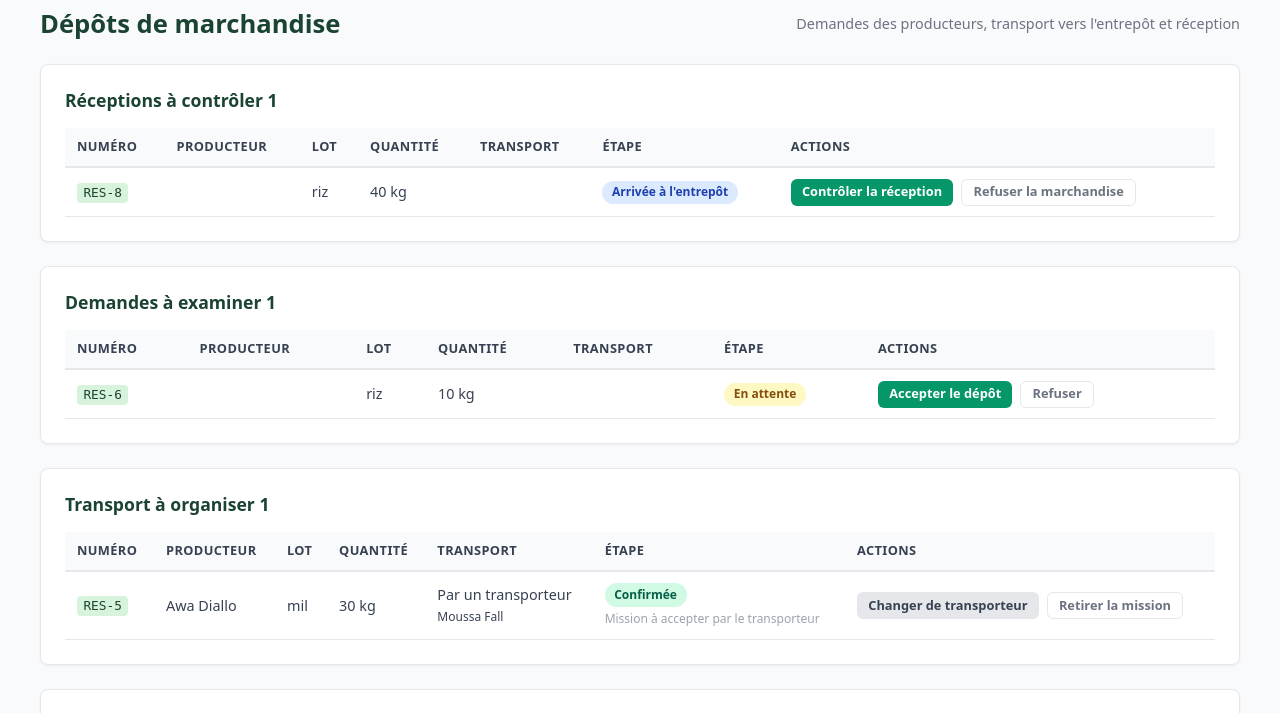
EntrepotReservationsComponent — corrections du gestionnaire › réassignation : le transporteur actuel n'est pas sélectionnable, le motif est transmis
Step 1. Click the button "Changer de transporteur" → [948, 605], box x1=857 y1=592 x2=1039 y2=619
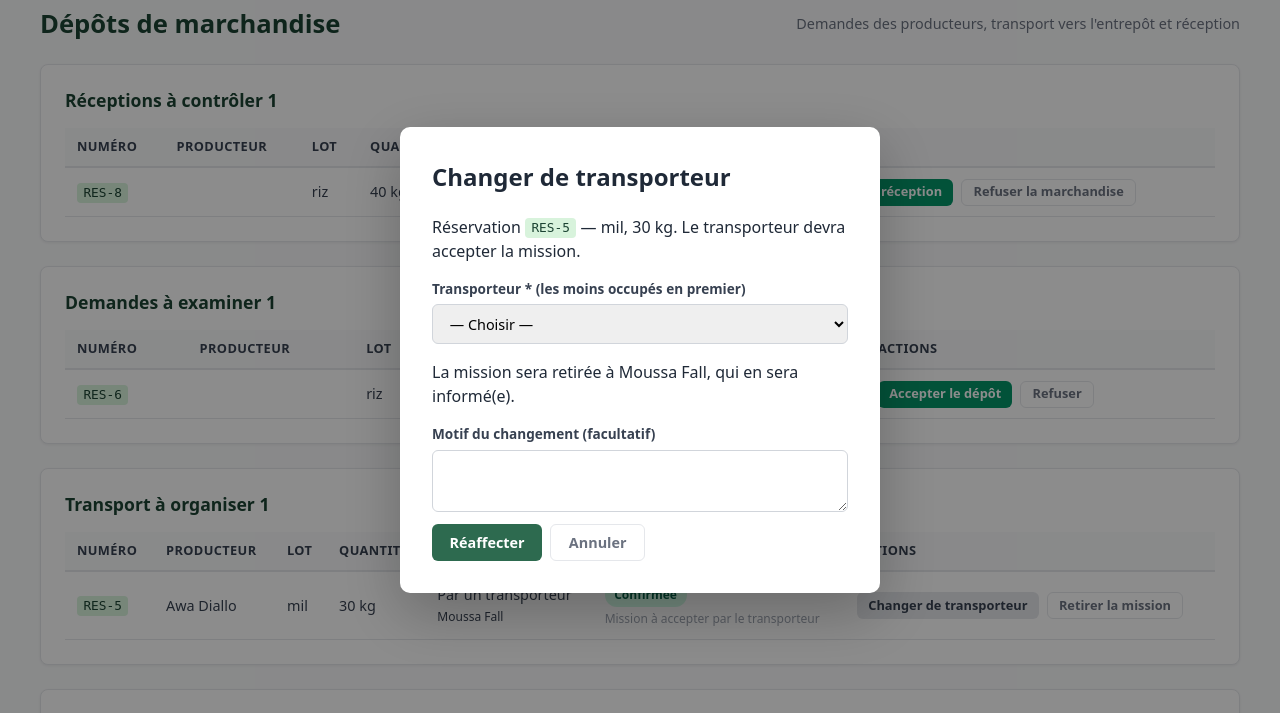
Now the text "La mission sera retirée à Moussa Fall" is shown, box x1=432 y1=361 x2=798 y2=407
